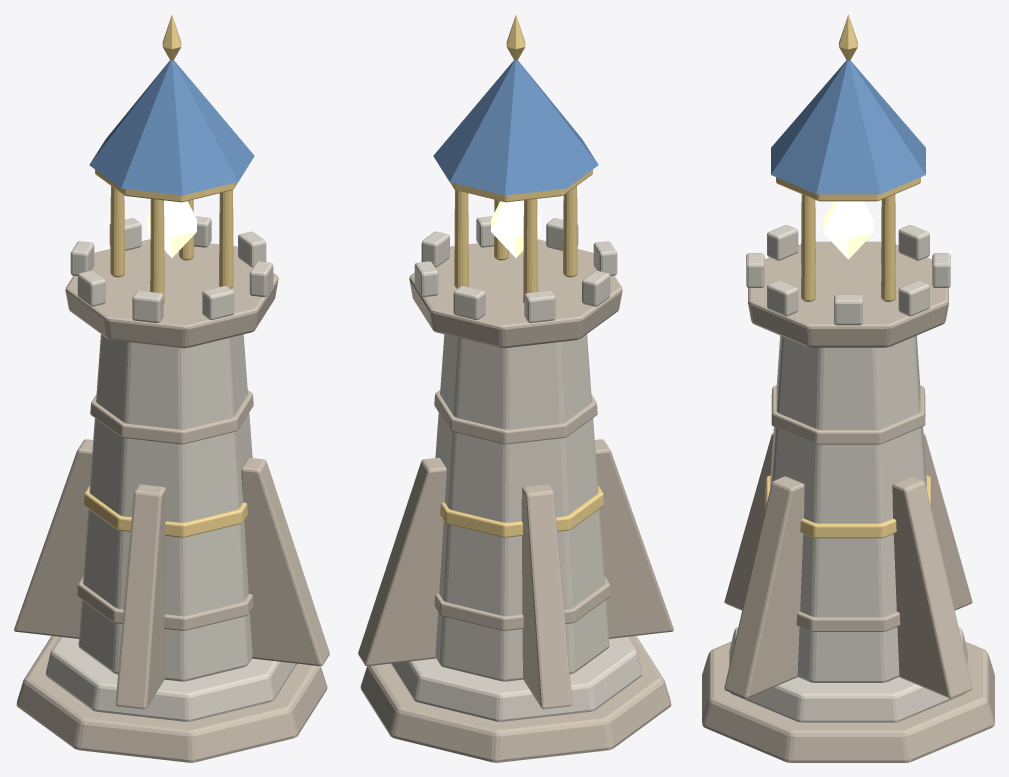
Rendered from tower_dawn.glb.
3 renders of one model, left to right at view 1: azimuth 30°, elevation 25°; view 2: azimuth 150°, elevation 25°; view 3: azimuth 270°, elevation 25°, orthographic.
Parts seen in each view (by area): view 1: shaft, plinth, roof, crown, buttress3, plinth2, buttress2, buttress1, band2, band0, band1, crystal (+11 smaller); view 2: shaft, plinth, roof, crown, buttress0, plinth2, buttress1, buttress2, band2, band0, band1, crystal (+11 smaller); view 3: shaft, plinth, roof, crown, buttress0, buttress3, plinth2, band2, buttress1, buttress2, crystal, band1 (+12 smaller).
Part boxes in pixels (x1,y1,x2,y2): shaft: [78, 334, 252, 681]; plinth: [16, 636, 327, 762]; roof: [89, 60, 254, 195]; crown: [65, 239, 278, 348]; buttress3: [241, 457, 329, 666]; plinth2: [46, 637, 296, 721]; buttress2: [115, 484, 166, 709]; buttress1: [14, 439, 93, 638]; band2: [90, 390, 253, 444]; band0: [77, 576, 253, 630]; band1: [83, 485, 247, 537]; crystal: [147, 200, 196, 257]; shaft: [435, 334, 609, 681]; plinth: [360, 636, 671, 762]; roof: [433, 60, 598, 195]; crown: [409, 239, 622, 348]; buttress0: [358, 457, 446, 666]; plinth2: [391, 637, 641, 721]; buttress1: [521, 484, 572, 709]; buttress2: [594, 439, 673, 638]; band2: [434, 390, 597, 444]; band0: [434, 576, 610, 630]; band1: [440, 485, 604, 537]; crystal: [491, 200, 540, 257]; shaft: [770, 335, 926, 682]; plinth: [702, 641, 994, 762]; roof: [771, 60, 925, 194]; crown: [748, 241, 948, 347]; buttress0: [892, 476, 972, 698]; buttress3: [724, 476, 804, 698]; plinth2: [729, 627, 967, 722]; band2: [771, 385, 925, 444]; buttress1: [923, 433, 972, 610]; buttress2: [724, 433, 773, 610]; crystal: [823, 201, 873, 259]; band1: [765, 475, 931, 538].
Size of the model in its own units: 3.21 by 8.32 by 3.21.
